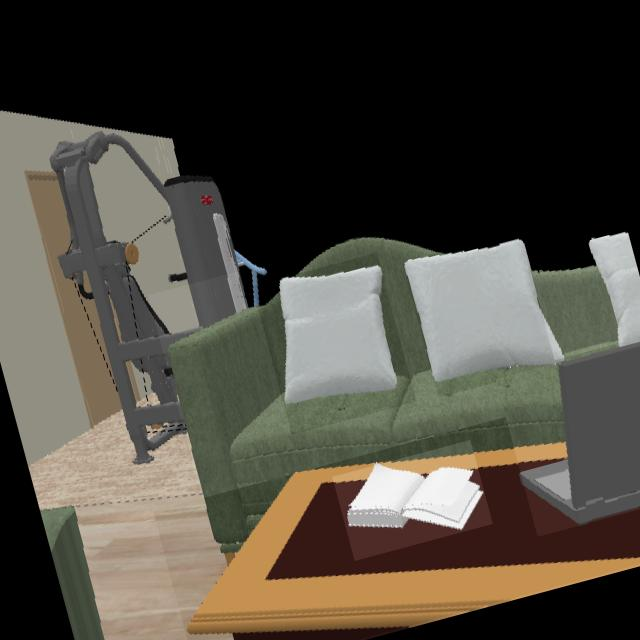book: (344, 466, 486, 533)
laptop: (520, 343, 640, 525)
pillow: (404, 241, 566, 383), (278, 267, 399, 409), (589, 232, 640, 350)
sofa: (168, 237, 567, 554), (40, 507, 107, 640), (534, 265, 619, 355)
table: (186, 444, 640, 640)
